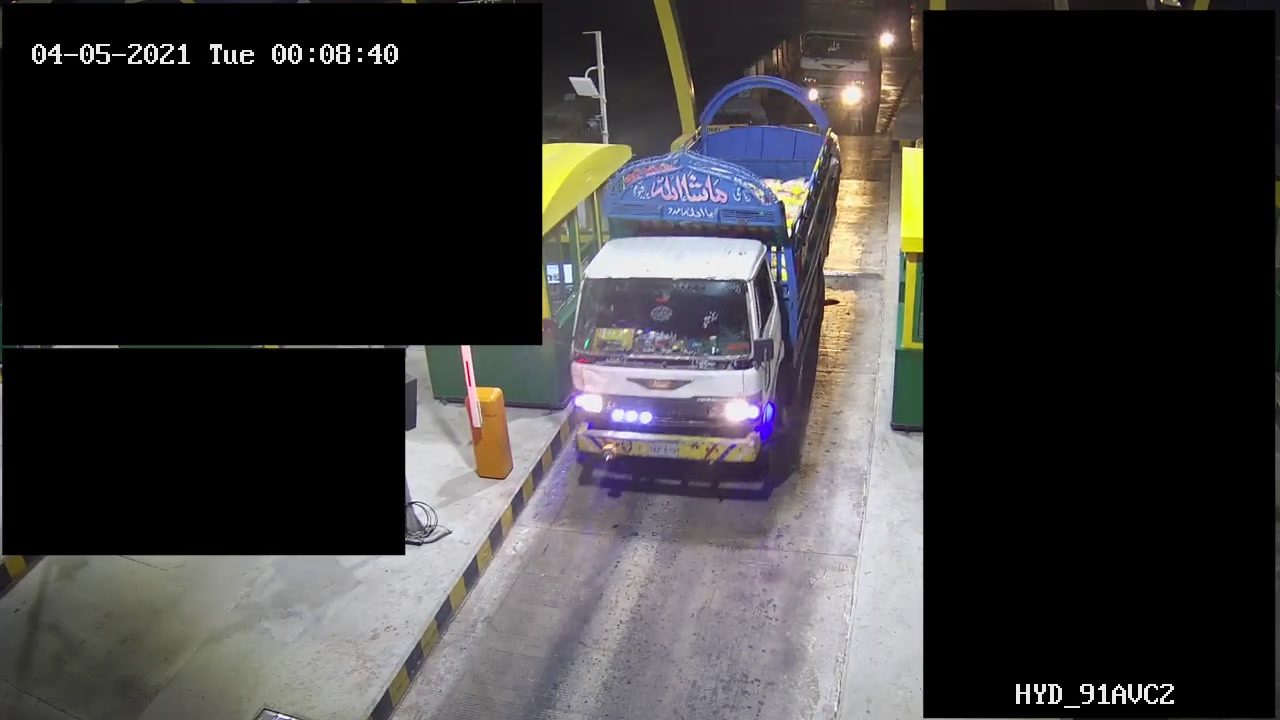F5: (557, 68, 833, 499)
